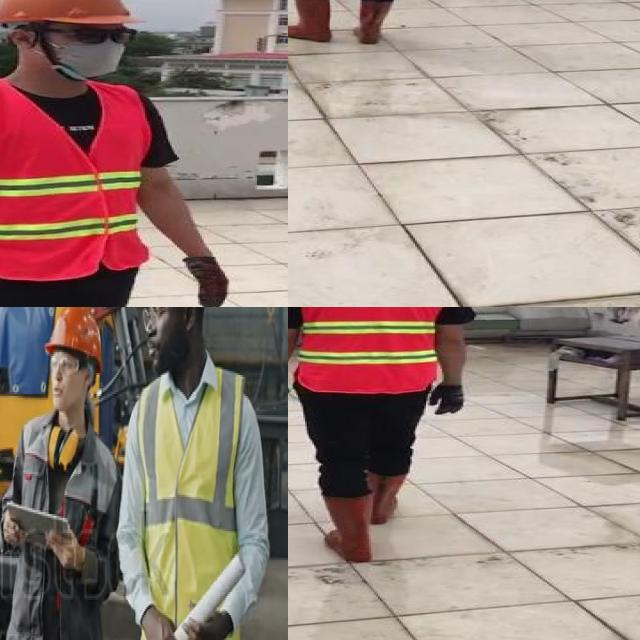Ear-protection: (51, 421, 80, 471)
boots: (319, 491, 373, 561), (364, 469, 408, 526), (354, 0, 394, 45), (288, 0, 331, 41)
face_mask: (45, 19, 137, 82)
glasses: (57, 18, 139, 49), (50, 350, 86, 377), (138, 307, 173, 326)
hand_glove: (182, 256, 228, 307), (430, 385, 465, 416)
head_helmet: (41, 307, 105, 363), (0, 0, 137, 26)
person: (0, 0, 239, 307), (114, 307, 271, 640), (288, 307, 483, 562), (0, 307, 126, 640)
vest: (131, 364, 251, 640), (0, 85, 147, 282), (289, 307, 445, 391)
